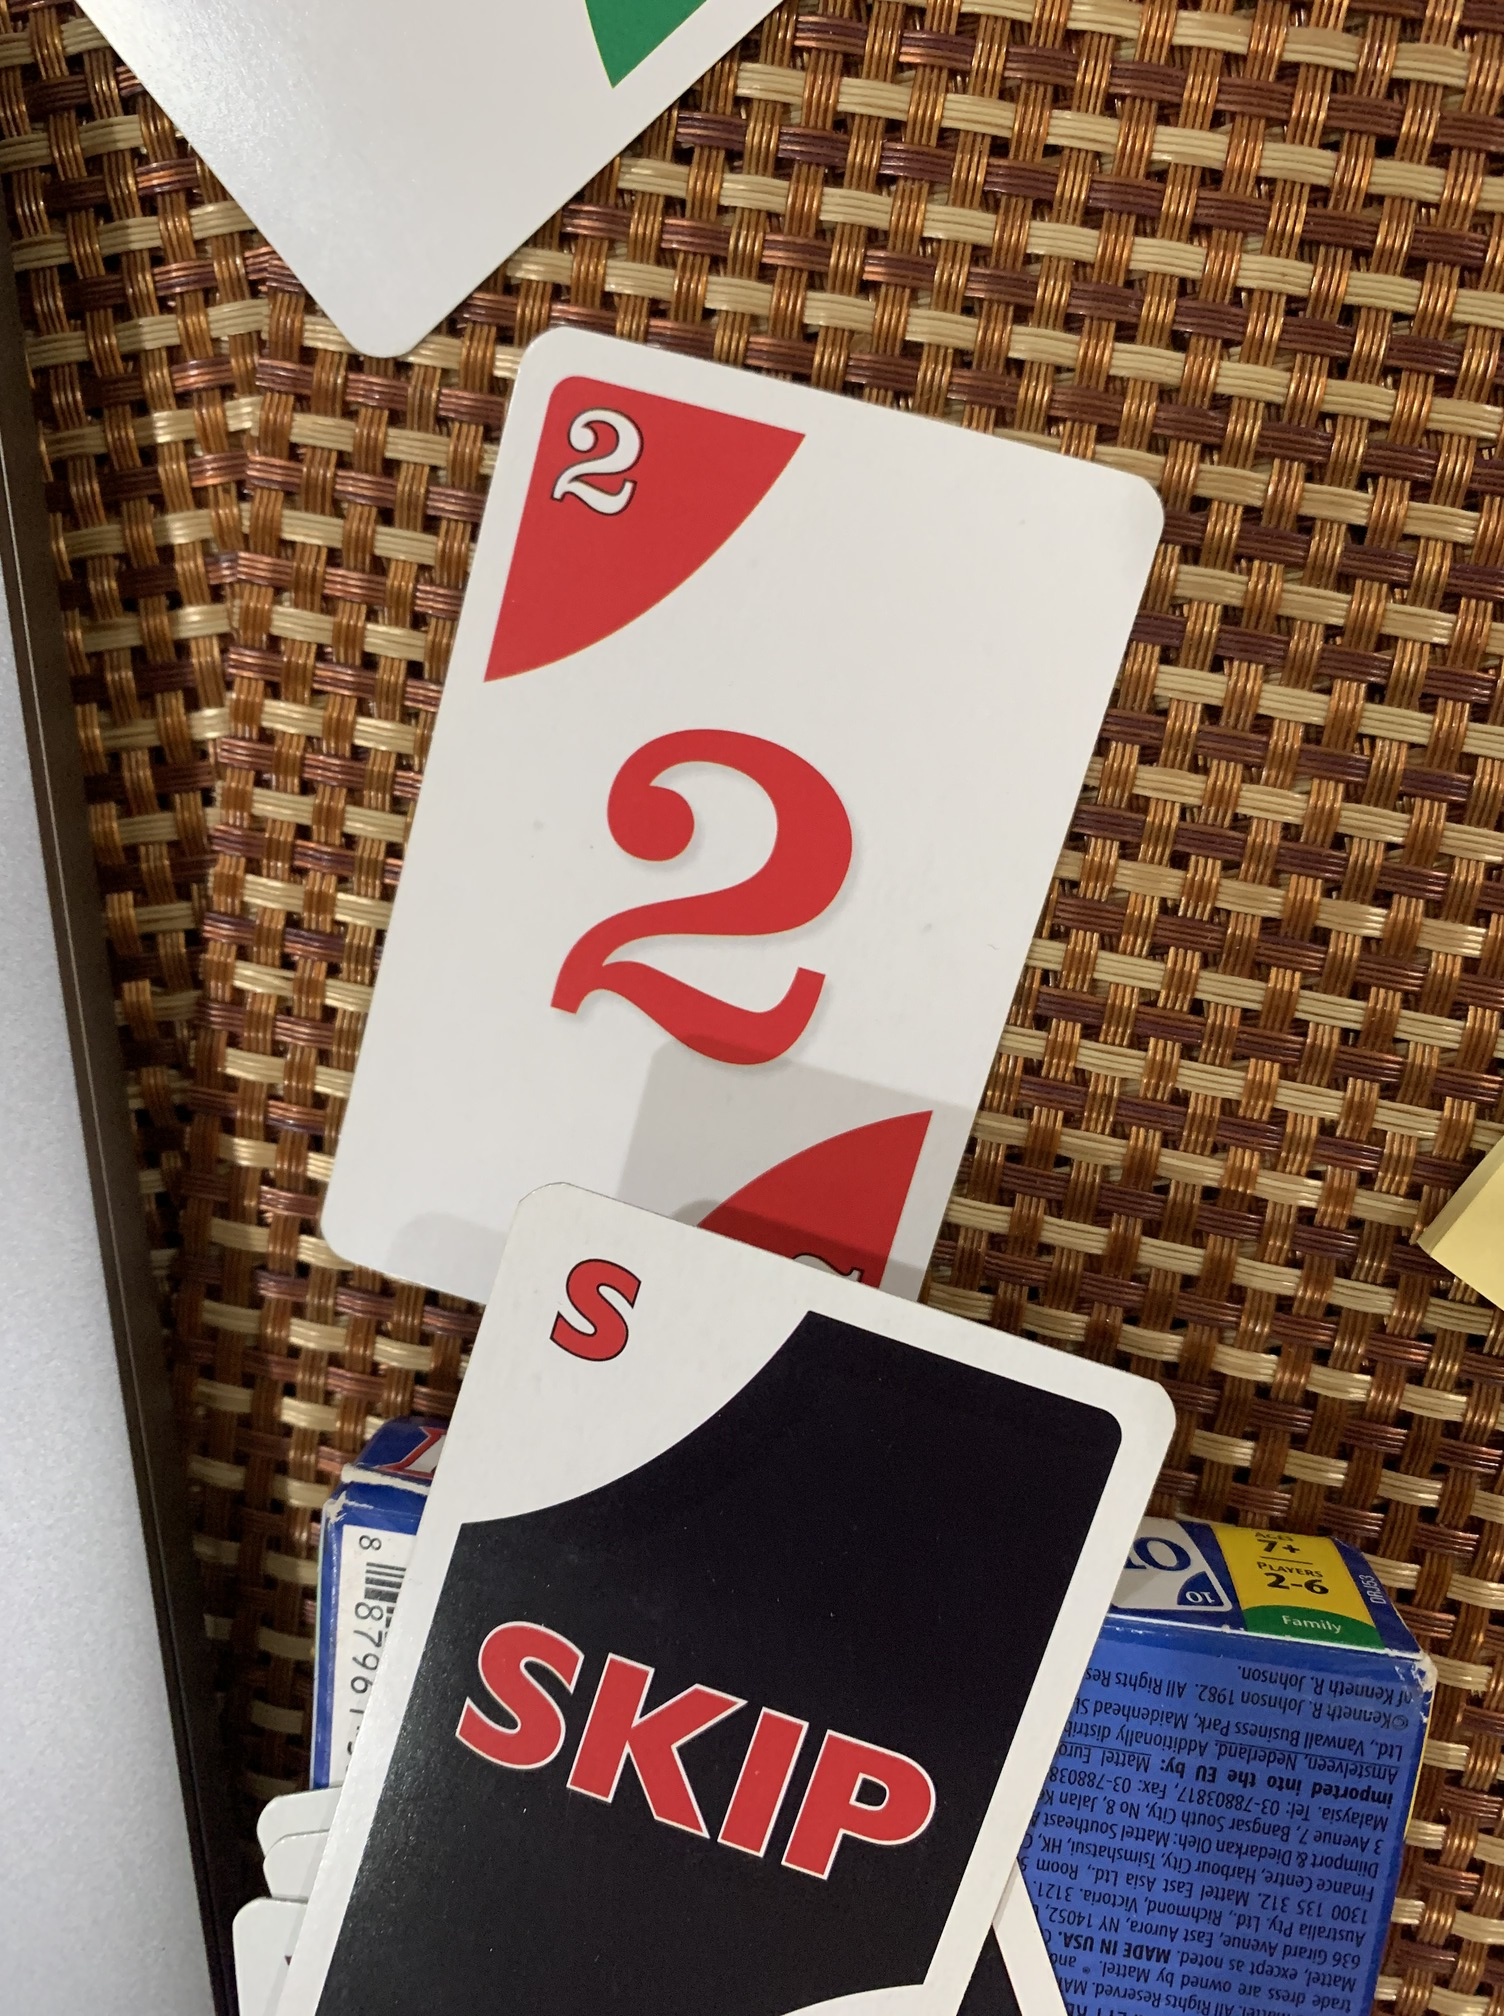two: (332, 303, 1179, 1400)
